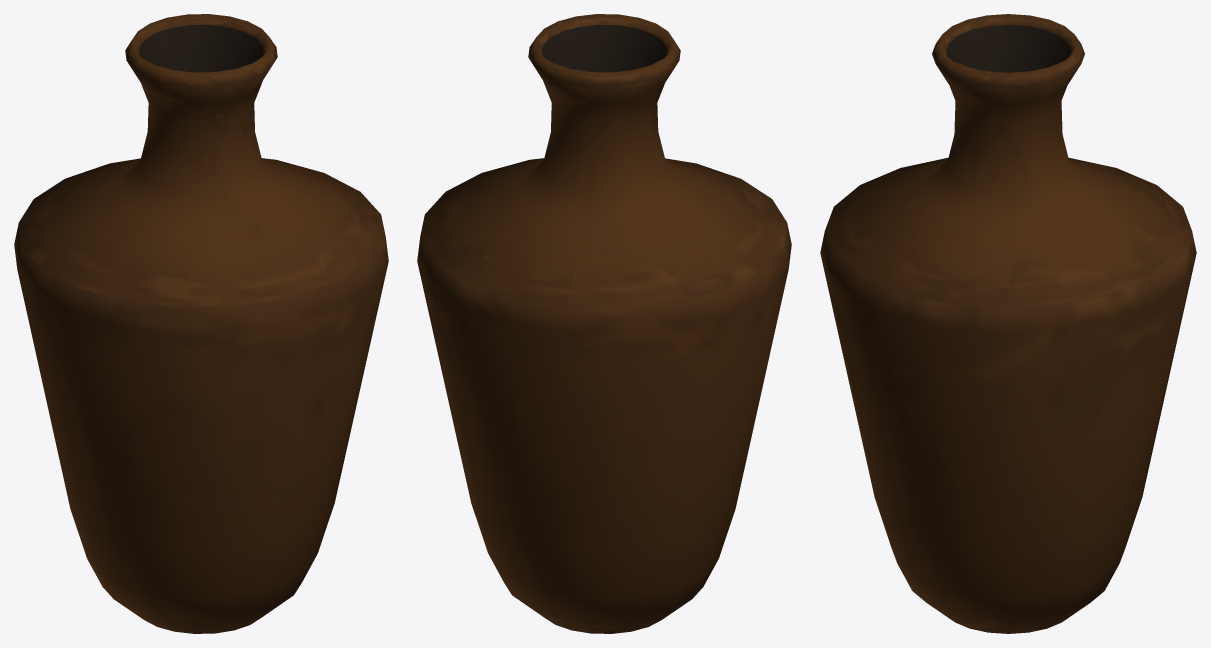
Rendered from Vase_3_Worn.glb.
3 renders of one model, left to right at view 1: azimuth 30°, elevation 25°; view 2: azimuth 150°, elevation 25°; view 3: azimuth 270°, elevation 25°, orthographic.
Parts seen in each view (by area): view 1: Vase_3; view 2: Vase_3; view 3: Vase_3.
Boxes of the visible parts, box(x1,y1,x2,y2) form: Vase_3: box(14, 14, 388, 633); Vase_3: box(417, 14, 791, 633); Vase_3: box(820, 14, 1196, 633).
Bounding box in the file's own units: 0.5554 × 0.9161 × 0.5554.
1 material, 1 textured.
